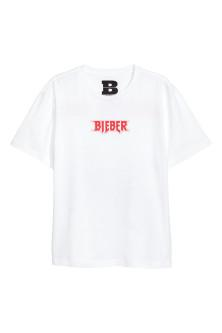teeshirt: (12, 60, 212, 277)
